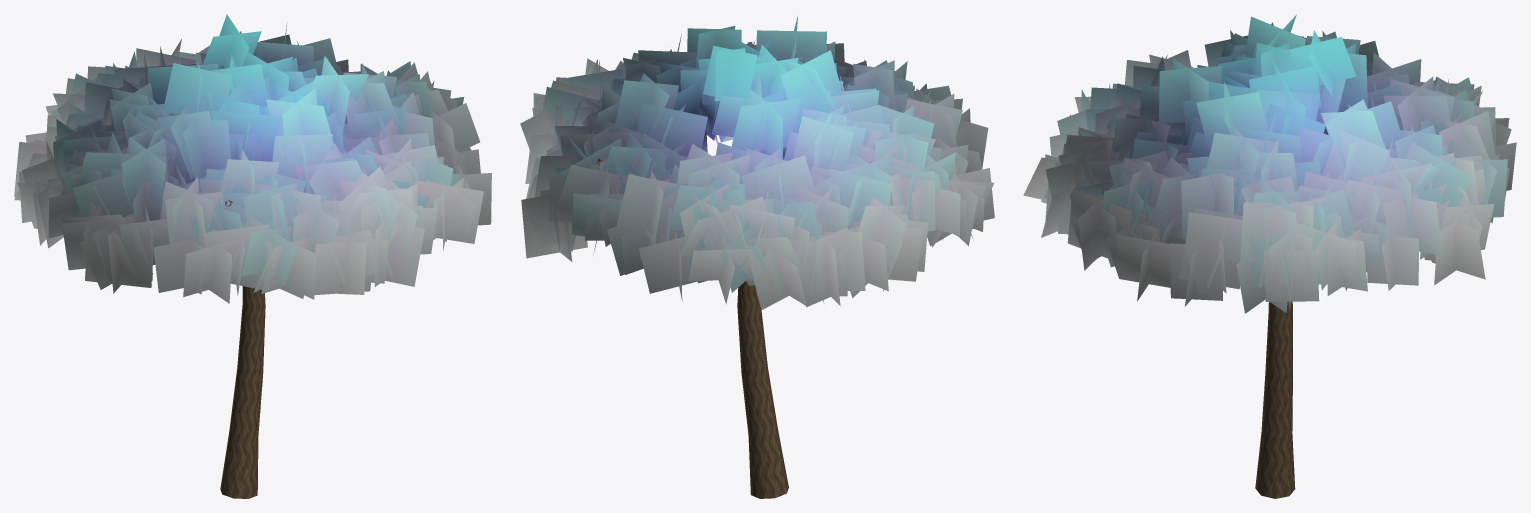
File: TR_FistikCami.fbx
3 renders of one model, left to right at view 1: azimuth 30°, elevation 25°; view 2: azimuth 150°, elevation 25°; view 3: azimuth 270°, elevation 25°, orthographic. The views are drawn at different scales.
Parts seen in each view (by area): view 1: TR_FistikCami_Canopy_LOD0, TR_FistikCami_Bark_LOD0; view 2: TR_FistikCami_Canopy_LOD0, TR_FistikCami_Bark_LOD0; view 3: TR_FistikCami_Canopy_LOD0, TR_FistikCami_Bark_LOD0.
Boxes of the visible parts, x1,y1,x2,y2 form: TR_FistikCami_Canopy_LOD0: [14, 14, 491, 303]; TR_FistikCami_Bark_LOD0: [220, 200, 265, 498]; TR_FistikCami_Canopy_LOD0: [520, 16, 994, 310]; TR_FistikCami_Bark_LOD0: [597, 159, 871, 498]; TR_FistikCami_Canopy_LOD0: [1023, 14, 1516, 313]; TR_FistikCami_Bark_LOD0: [1255, 301, 1295, 498].
Size of what is drawn, in the model's own units: 8.96 by 9.23 by 8.89.
